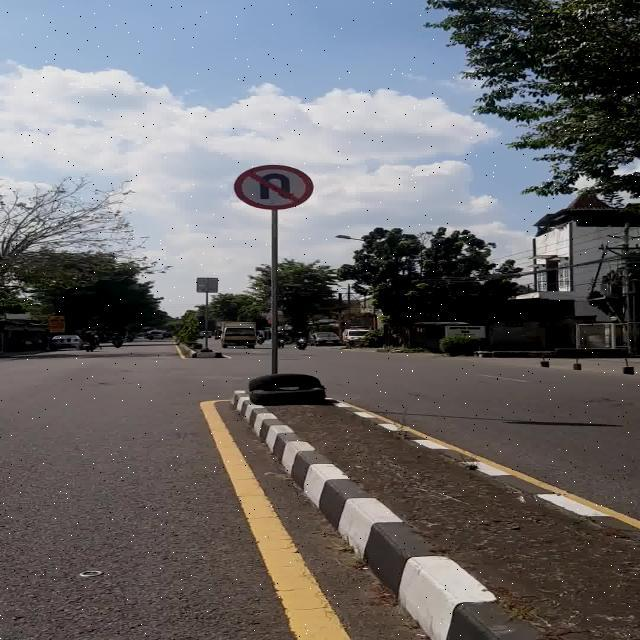Dilarang Putar Balik: (234, 164, 314, 210)
